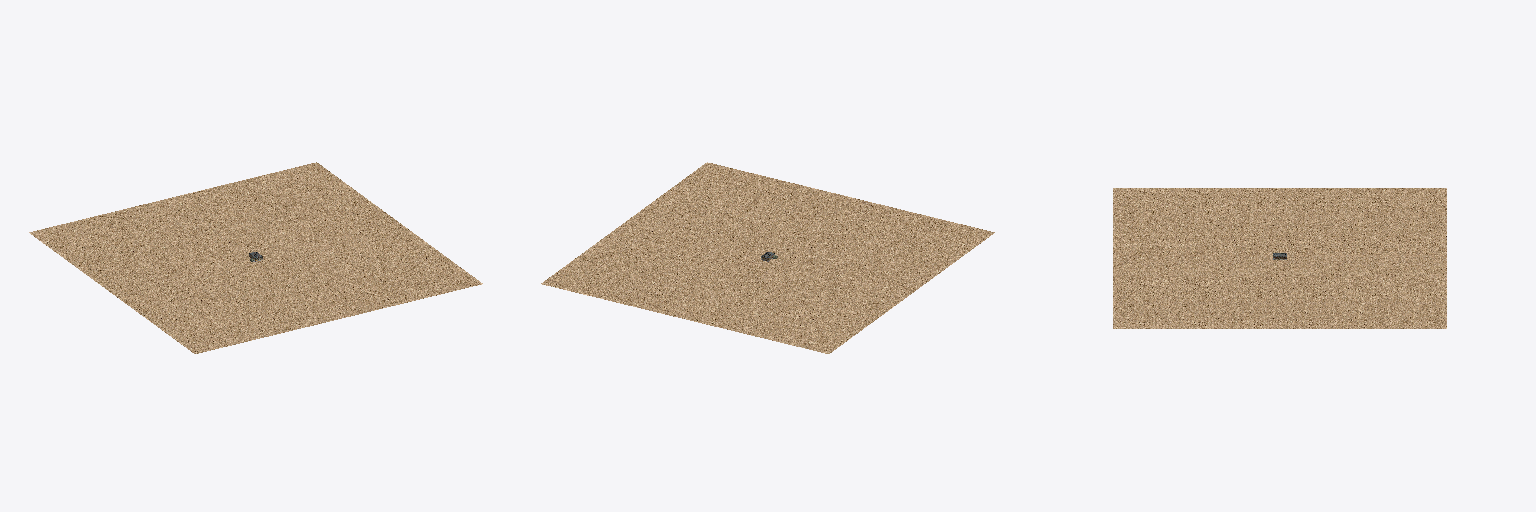
The picture shows the model from 3 angles: view 1: azimuth 30°, elevation 25°; view 2: azimuth 150°, elevation 25°; view 3: azimuth 270°, elevation 25°; orthographic projection.
Size of the model in its own units: 196 by 2.98 by 196.
22 materials, 11 textured.